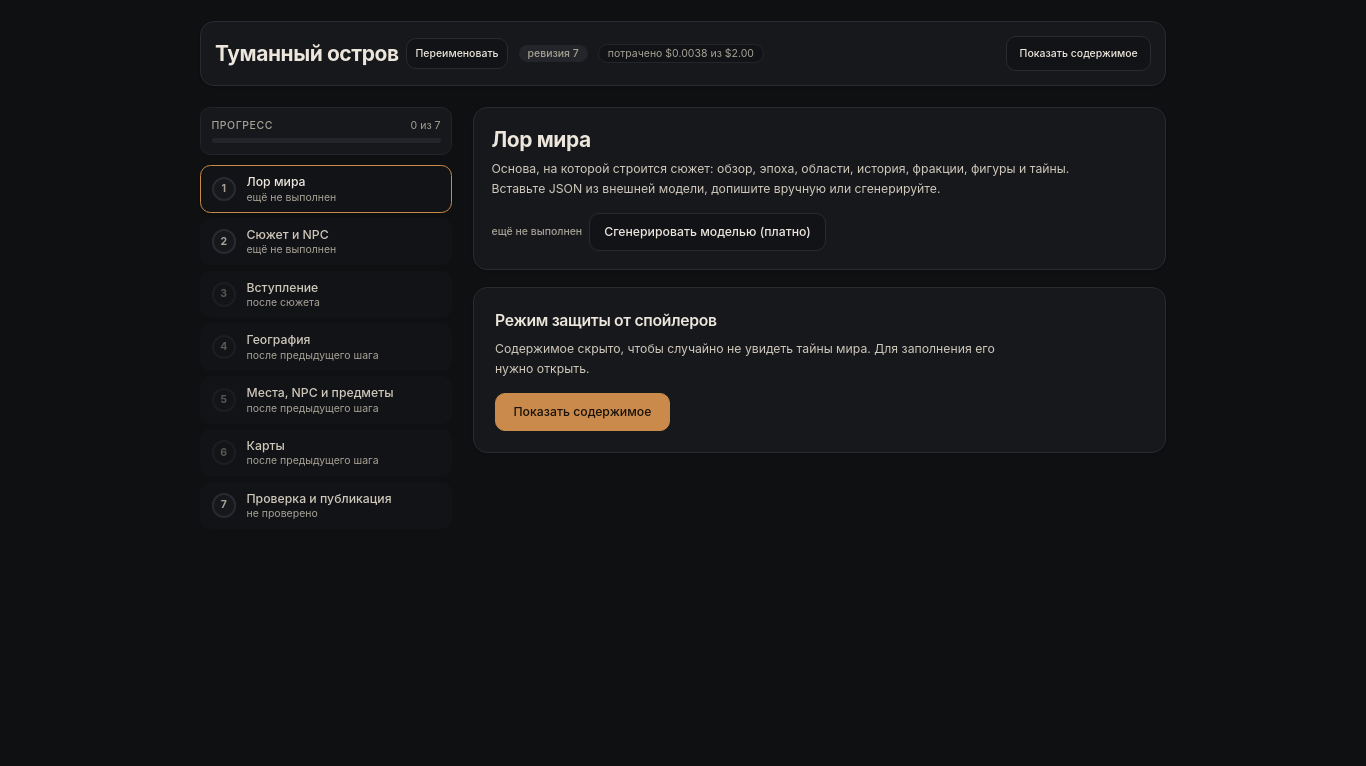
Test case: по умолчанию скрывает содержимое и не запрашивает его, пока автор не откроет
Expected: the heading "Туманный остров" is shown, [215,40,399,68]
Expected: the text "Содержимое скрыто" is shown, [495,341,995,376]
Click the button "Показать содержимое" in the row of "из $2.00": (1079, 54) [1006,36,1151,71]
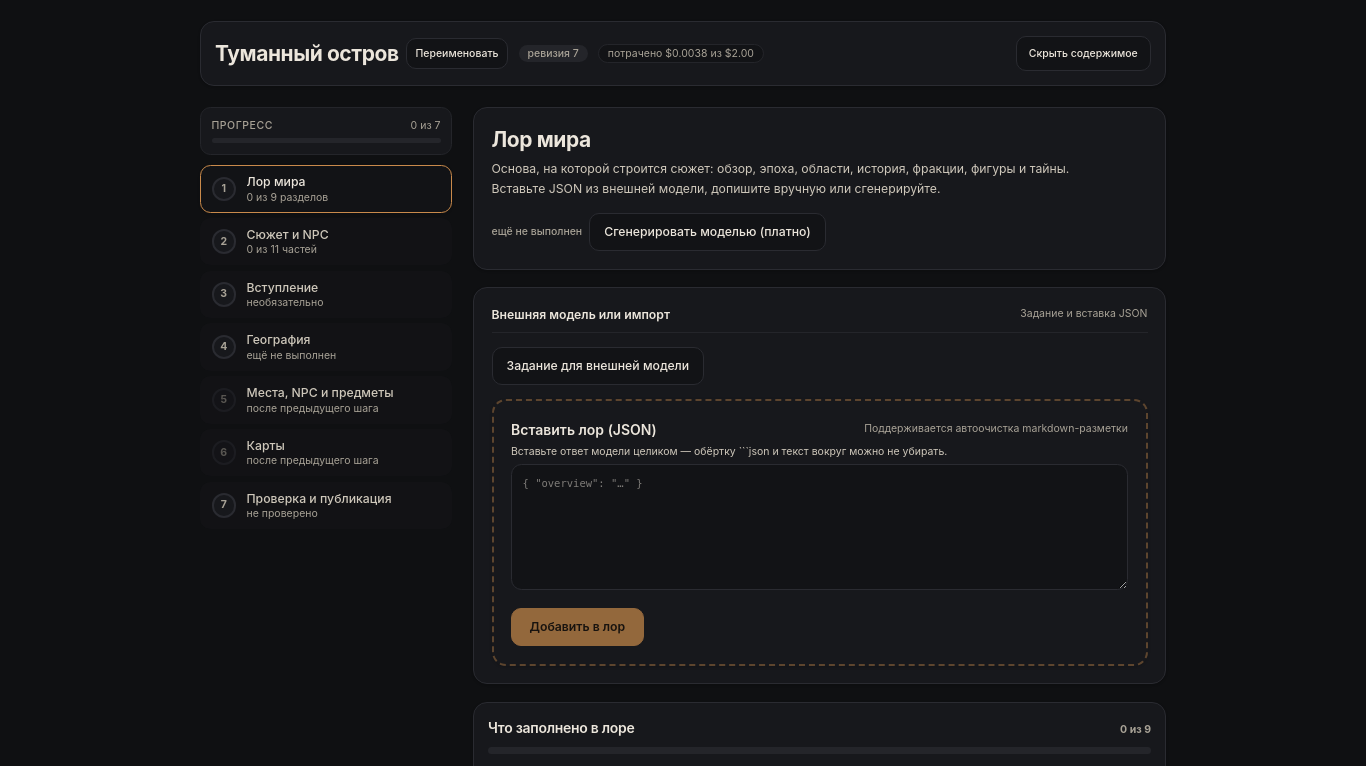
Result: the heading "Что заполнено в лоре" is shown at [488,717,634,738]
